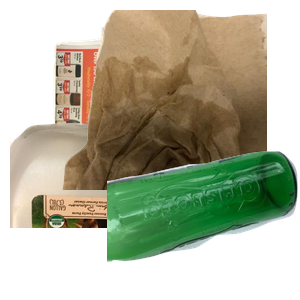glass: (107, 149, 300, 300)
paper: (51, 24, 291, 204)
plastic: (10, 120, 220, 300)
trash: (60, 10, 300, 190)
